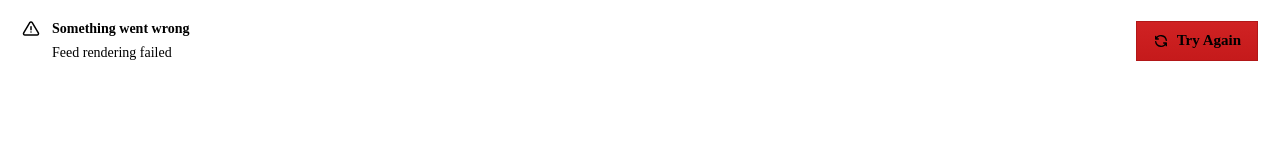
Scenario: shared live workspace status surfaces › displays a real render error and retries children after the cause is resolved
Expected: the message "Something went wrong Feed rendering failed Try Again" is shown, x1=8 y1=8 x2=1272 y2=74
Expected: the text "Feed rendering failed" is shown, x1=52 y1=45 x2=172 y2=60
Click the button "Try Again" at (1197, 41), box x1=1136 y1=21 x2=1258 y2=61
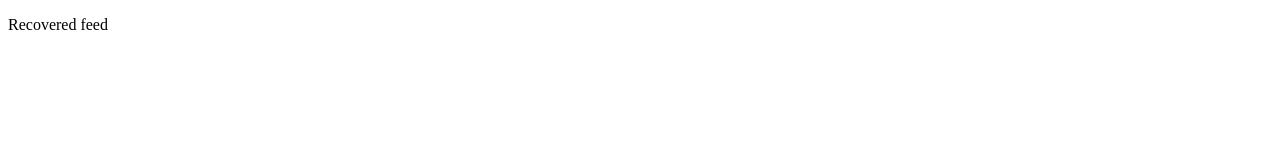
Now the text "Recovered feed" is shown, box x1=8 y1=16 x2=108 y2=33
